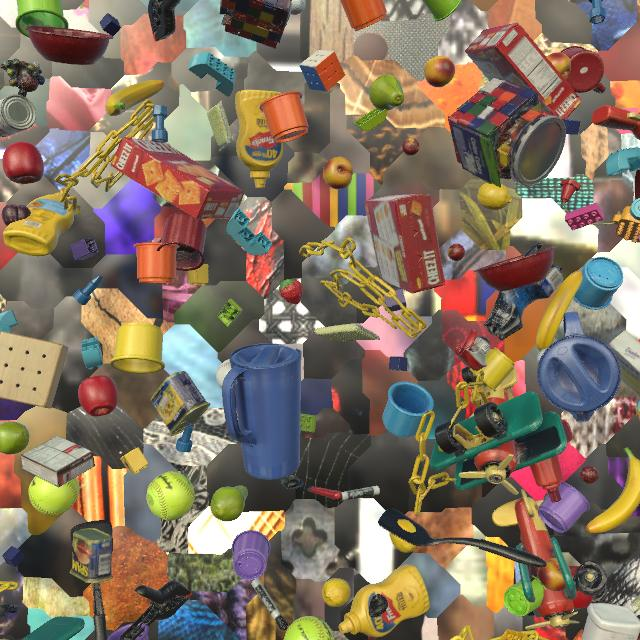ycb_003_cracker_box: (465, 23, 583, 119), (111, 137, 244, 219), (364, 194, 445, 294)
ycb_004_sugar_box: (609, 330, 640, 397)
ycb_005_tomato_soup_can: (0, 94, 36, 137)
ycb_006_mustard_bottle: (339, 564, 430, 637), (235, 90, 283, 188), (3, 193, 74, 256)
ycb_008_pudding_box: (20, 436, 95, 487)
ycb_010_potted_meat_can: (151, 371, 210, 436), (70, 528, 113, 583)
ycb_011_banana: (586, 447, 640, 534), (536, 270, 582, 351), (105, 80, 164, 116)
ycb_012_strawberry: (279, 279, 303, 304)
ycb_013_apple: (2, 142, 44, 184), (78, 375, 118, 417), (569, 566, 594, 609)
ycb_014_lemon: (389, 519, 417, 553), (477, 183, 512, 210), (322, 578, 351, 607)
ycb_015_peach: (538, 558, 571, 591), (323, 157, 354, 189), (424, 56, 455, 88), (546, 52, 571, 80)
ycb_016_pear: (210, 485, 248, 521), (369, 74, 404, 111), (0, 422, 29, 454)
ycb_018_plum: (2, 204, 31, 226)
